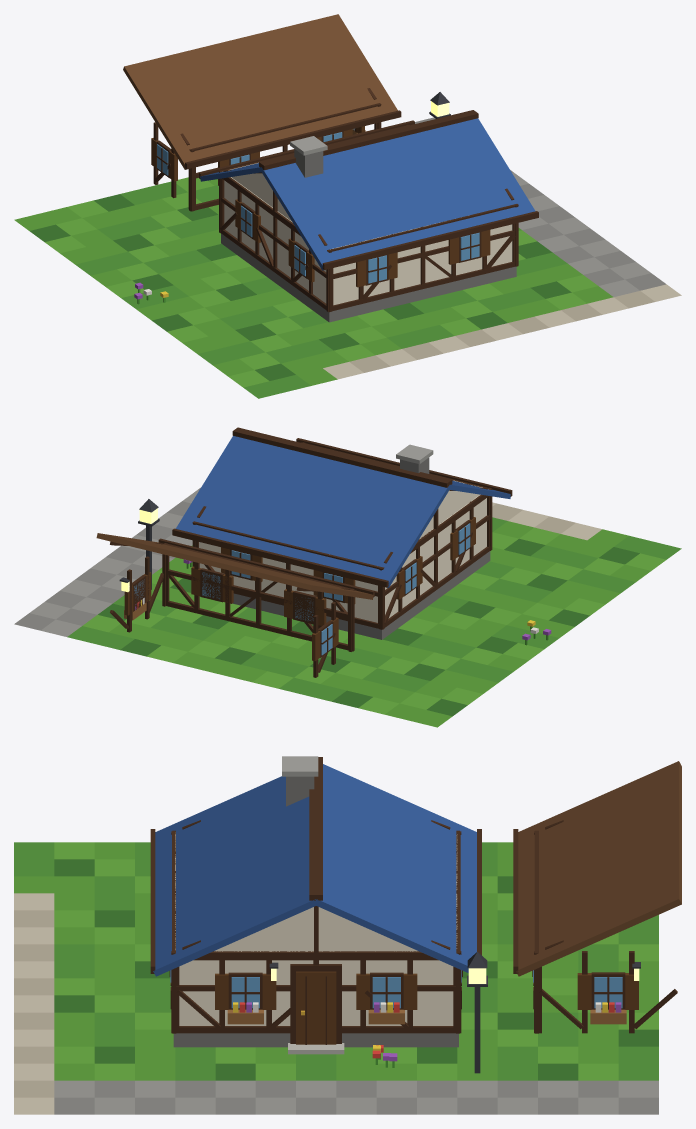
File: chunk_1_7.glb
3 views of the same model, one above another, from view 1: azimuth 30°, elevation 25°; view 2: azimuth 150°, elevation 25°; view 3: azimuth 270°, elevation 25° (orthographic). The views are drawn at different scales.
Parts seen in each view (by area): view 1: chunk_1_7; view 2: chunk_1_7; view 3: chunk_1_7.
Boxes of the visible parts, x1=… form: chunk_1_7: x1=14, y1=14, x2=681, y2=398; chunk_1_7: x1=14, y1=427, x2=681, y2=727; chunk_1_7: x1=14, y1=756, x2=681, y2=1114.
Bounding box in the file's own units: 16 × 4.94 × 16.57.
